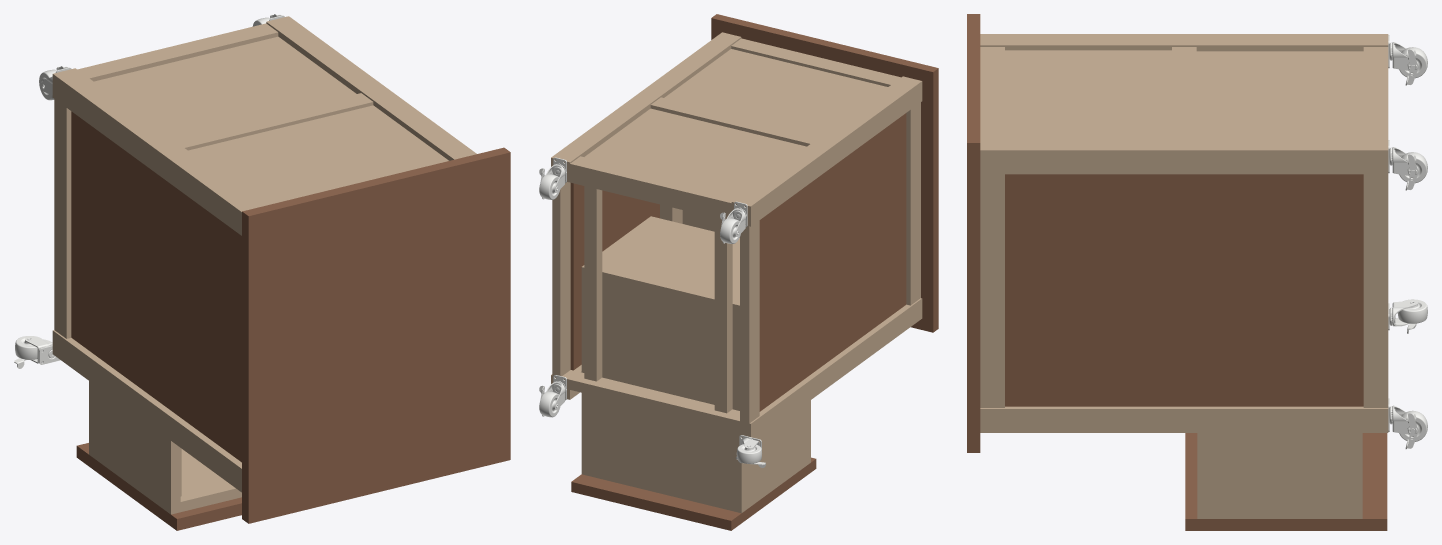
Rendered from mortise-and-tenon-plan.fbx.
3 views of the same model, side by side, from view 1: azimuth 30°, elevation 25°; view 2: azimuth 150°, elevation 25°; view 3: azimuth 270°, elevation 25° (orthographic). The views are drawn at different scales.
Visible parts, largest first — view 1: Body1 (×13); view 2: Body1 (×24); view 3: Body1 (×14).
Boxes of the visible parts, x1=… form: Body1 (×13): x1=52, y1=16, x2=510, y2=530; Body1 (×24): x1=551, y1=14, x2=938, y2=530; Body1 (×14): x1=967, y1=14, x2=1388, y2=530.
Size of the model in its own units: 21.29 by 29.63 by 30.47.
